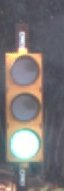Green: (6, 41, 52, 179)
